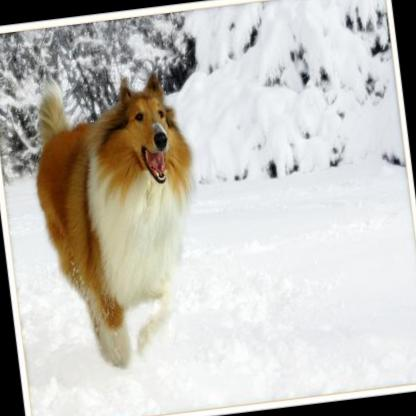collie: (18, 45, 221, 380)
